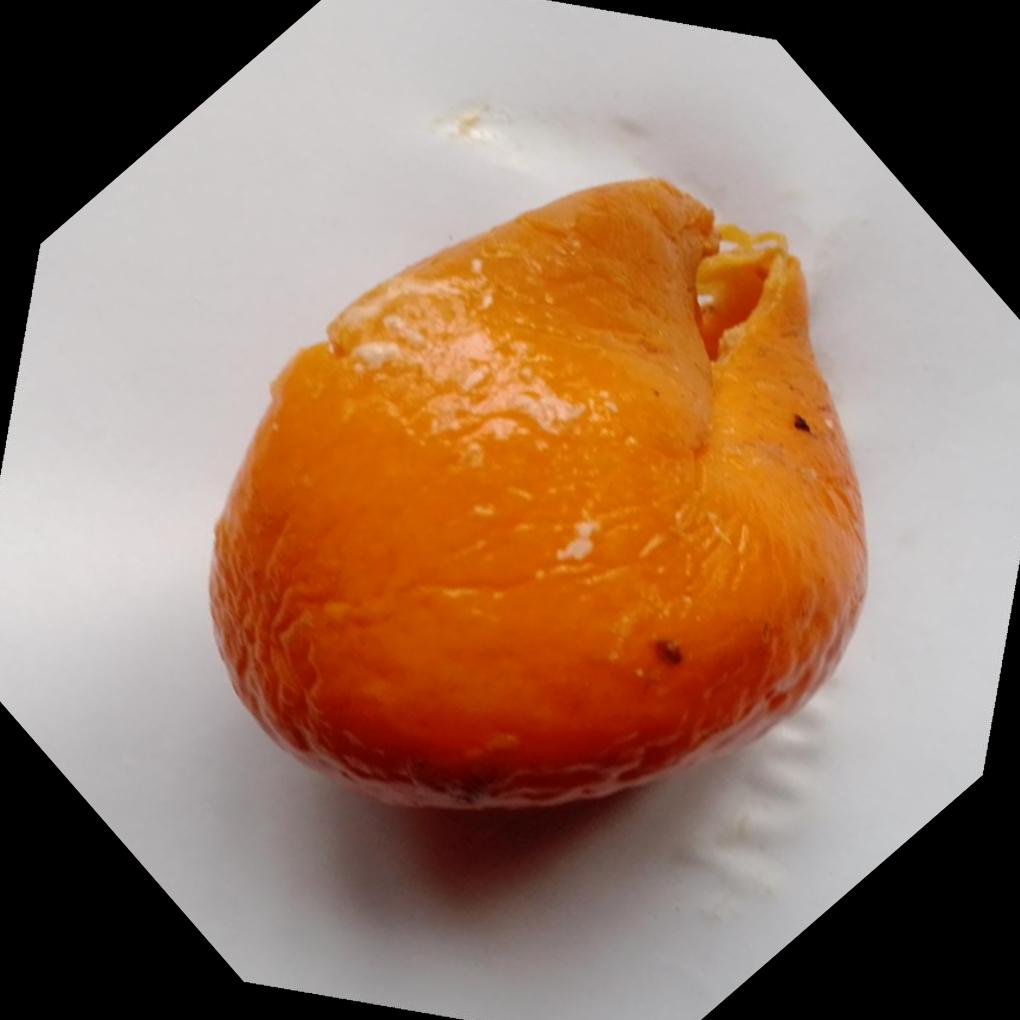FreshOrange: (208, 172, 872, 812)
